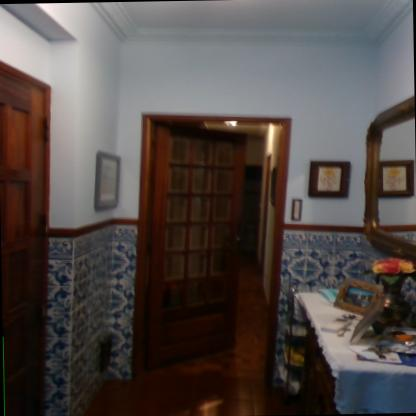semi: (128, 105, 296, 394)
